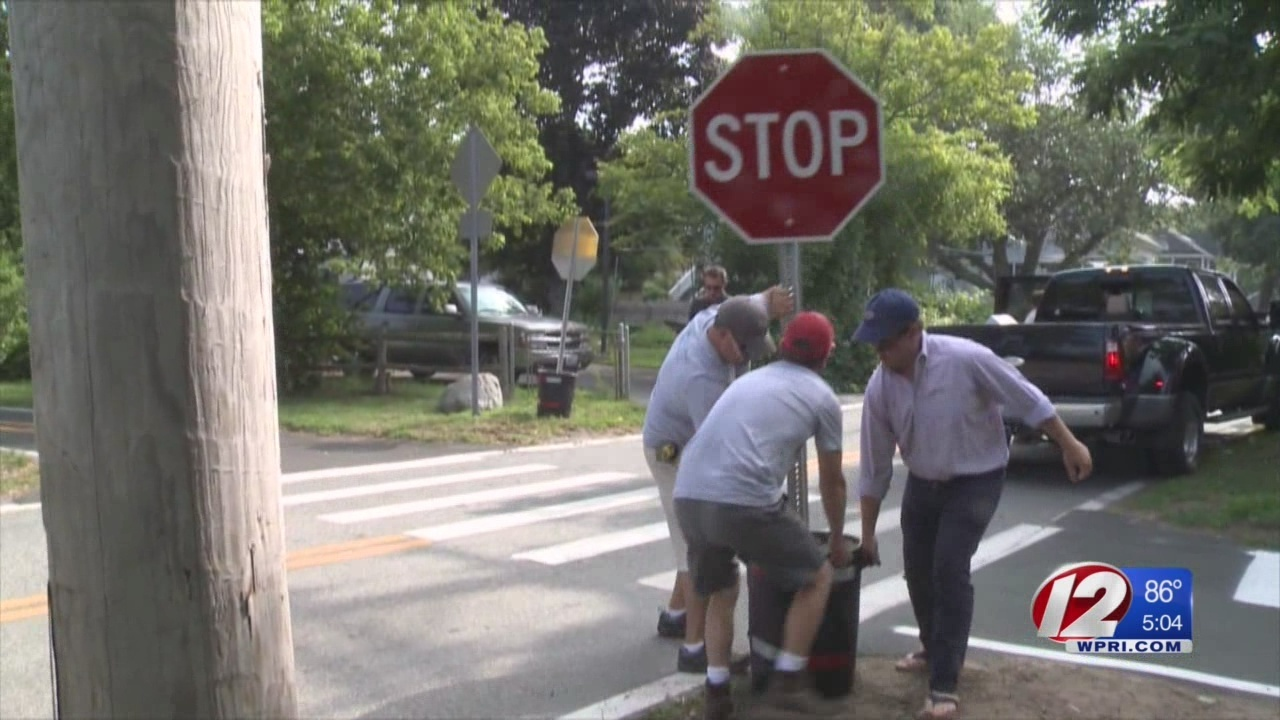stopsign: (686, 45, 886, 245)
